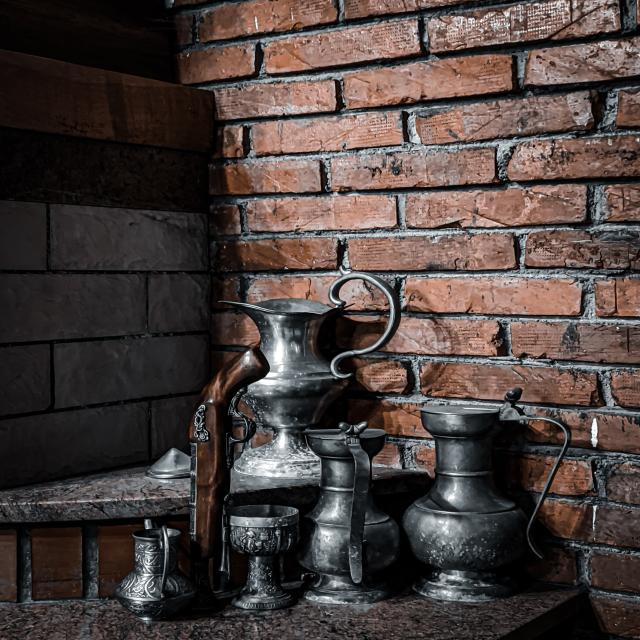Metal: (200, 270, 406, 474), (407, 399, 568, 604), (302, 422, 409, 612), (217, 497, 310, 613), (122, 513, 199, 627)
